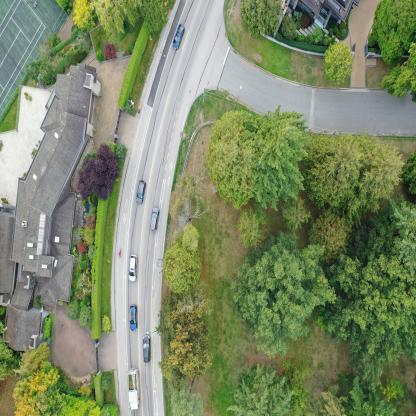Coniferous Tree: (251, 102, 313, 200), (156, 296, 214, 376), (320, 366, 411, 416), (310, 122, 360, 203), (228, 365, 301, 416), (358, 136, 406, 210), (163, 243, 199, 290), (312, 215, 350, 256), (245, 0, 273, 49), (103, 0, 136, 40), (395, 199, 416, 259), (234, 211, 263, 251), (168, 385, 205, 416), (15, 345, 50, 374), (141, 0, 169, 35), (288, 201, 305, 233)
Deciduous Tree: (337, 234, 415, 359), (246, 236, 320, 349), (206, 107, 260, 207), (373, 0, 416, 66), (75, 142, 121, 203), (9, 375, 59, 416), (383, 40, 416, 100), (326, 38, 354, 84), (71, 0, 95, 26), (179, 222, 203, 245)
